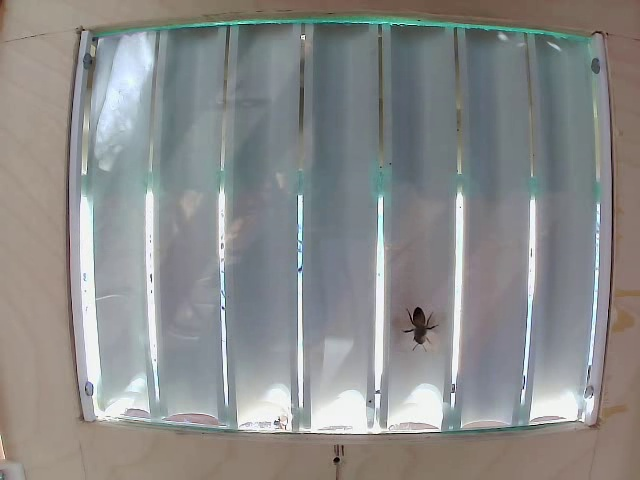bee: (401, 303, 432, 350)
